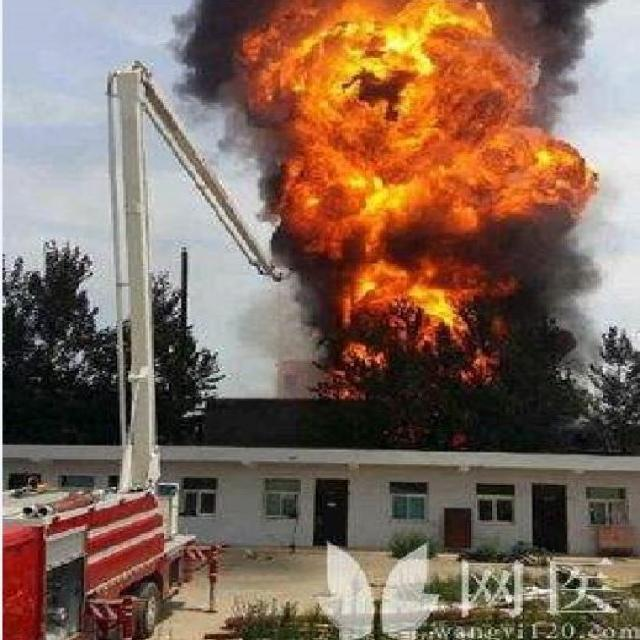Smoke: (178, 0, 614, 327)
